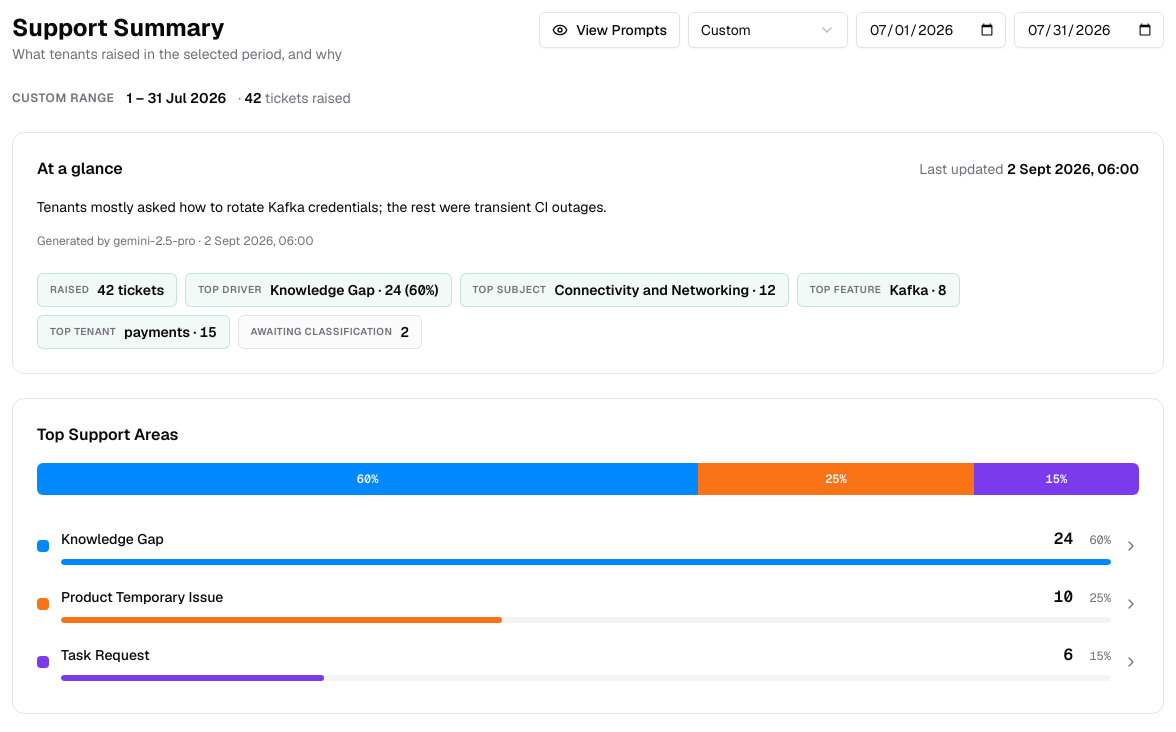
Test: SupportSummaryPage › Date window › clears the custom dates when a preset is chosen again
Click the dropdown with test id "summary-date-filter" at (768,30), box [688,12,848,48]
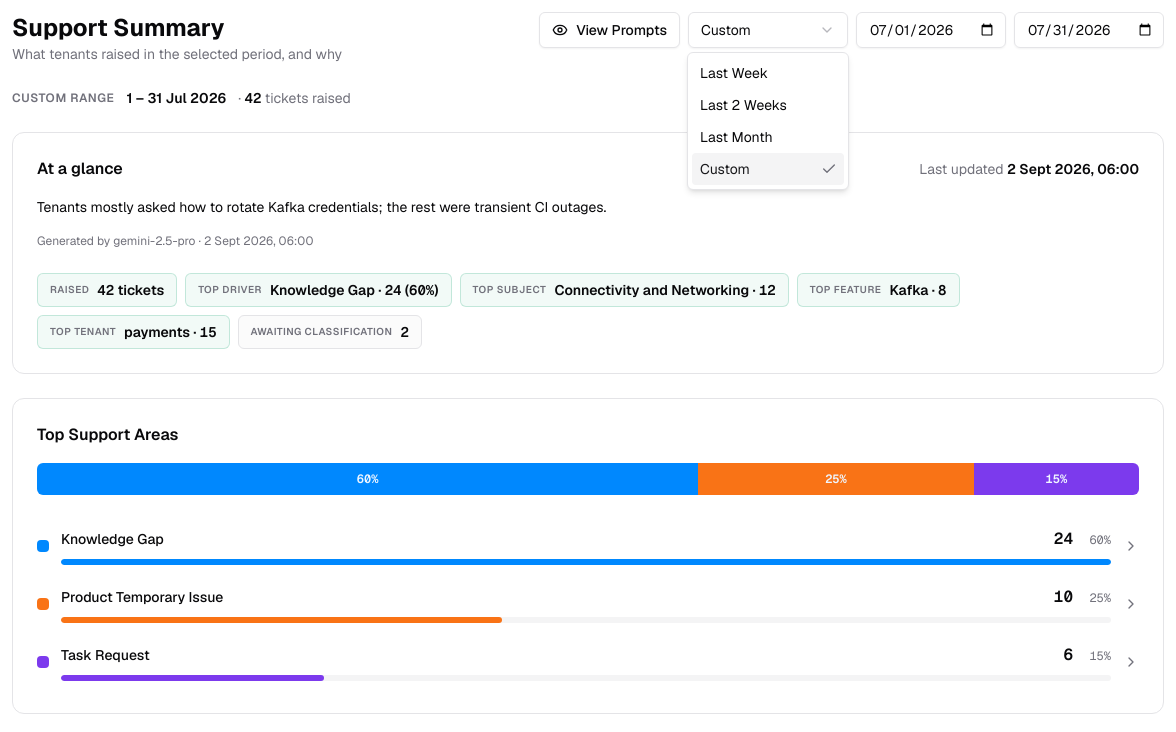
Click the option "Last Week" at (734,73), box [700,64,768,82]
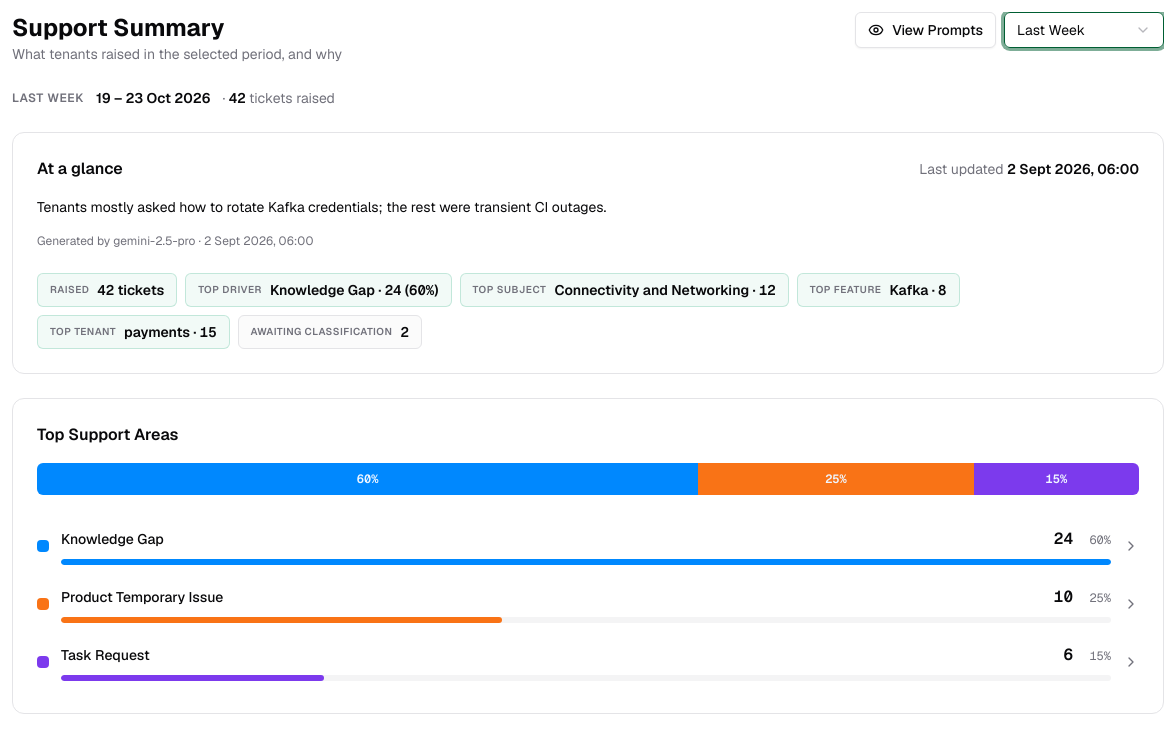
Expected: the date field labelled "From date" is gone
